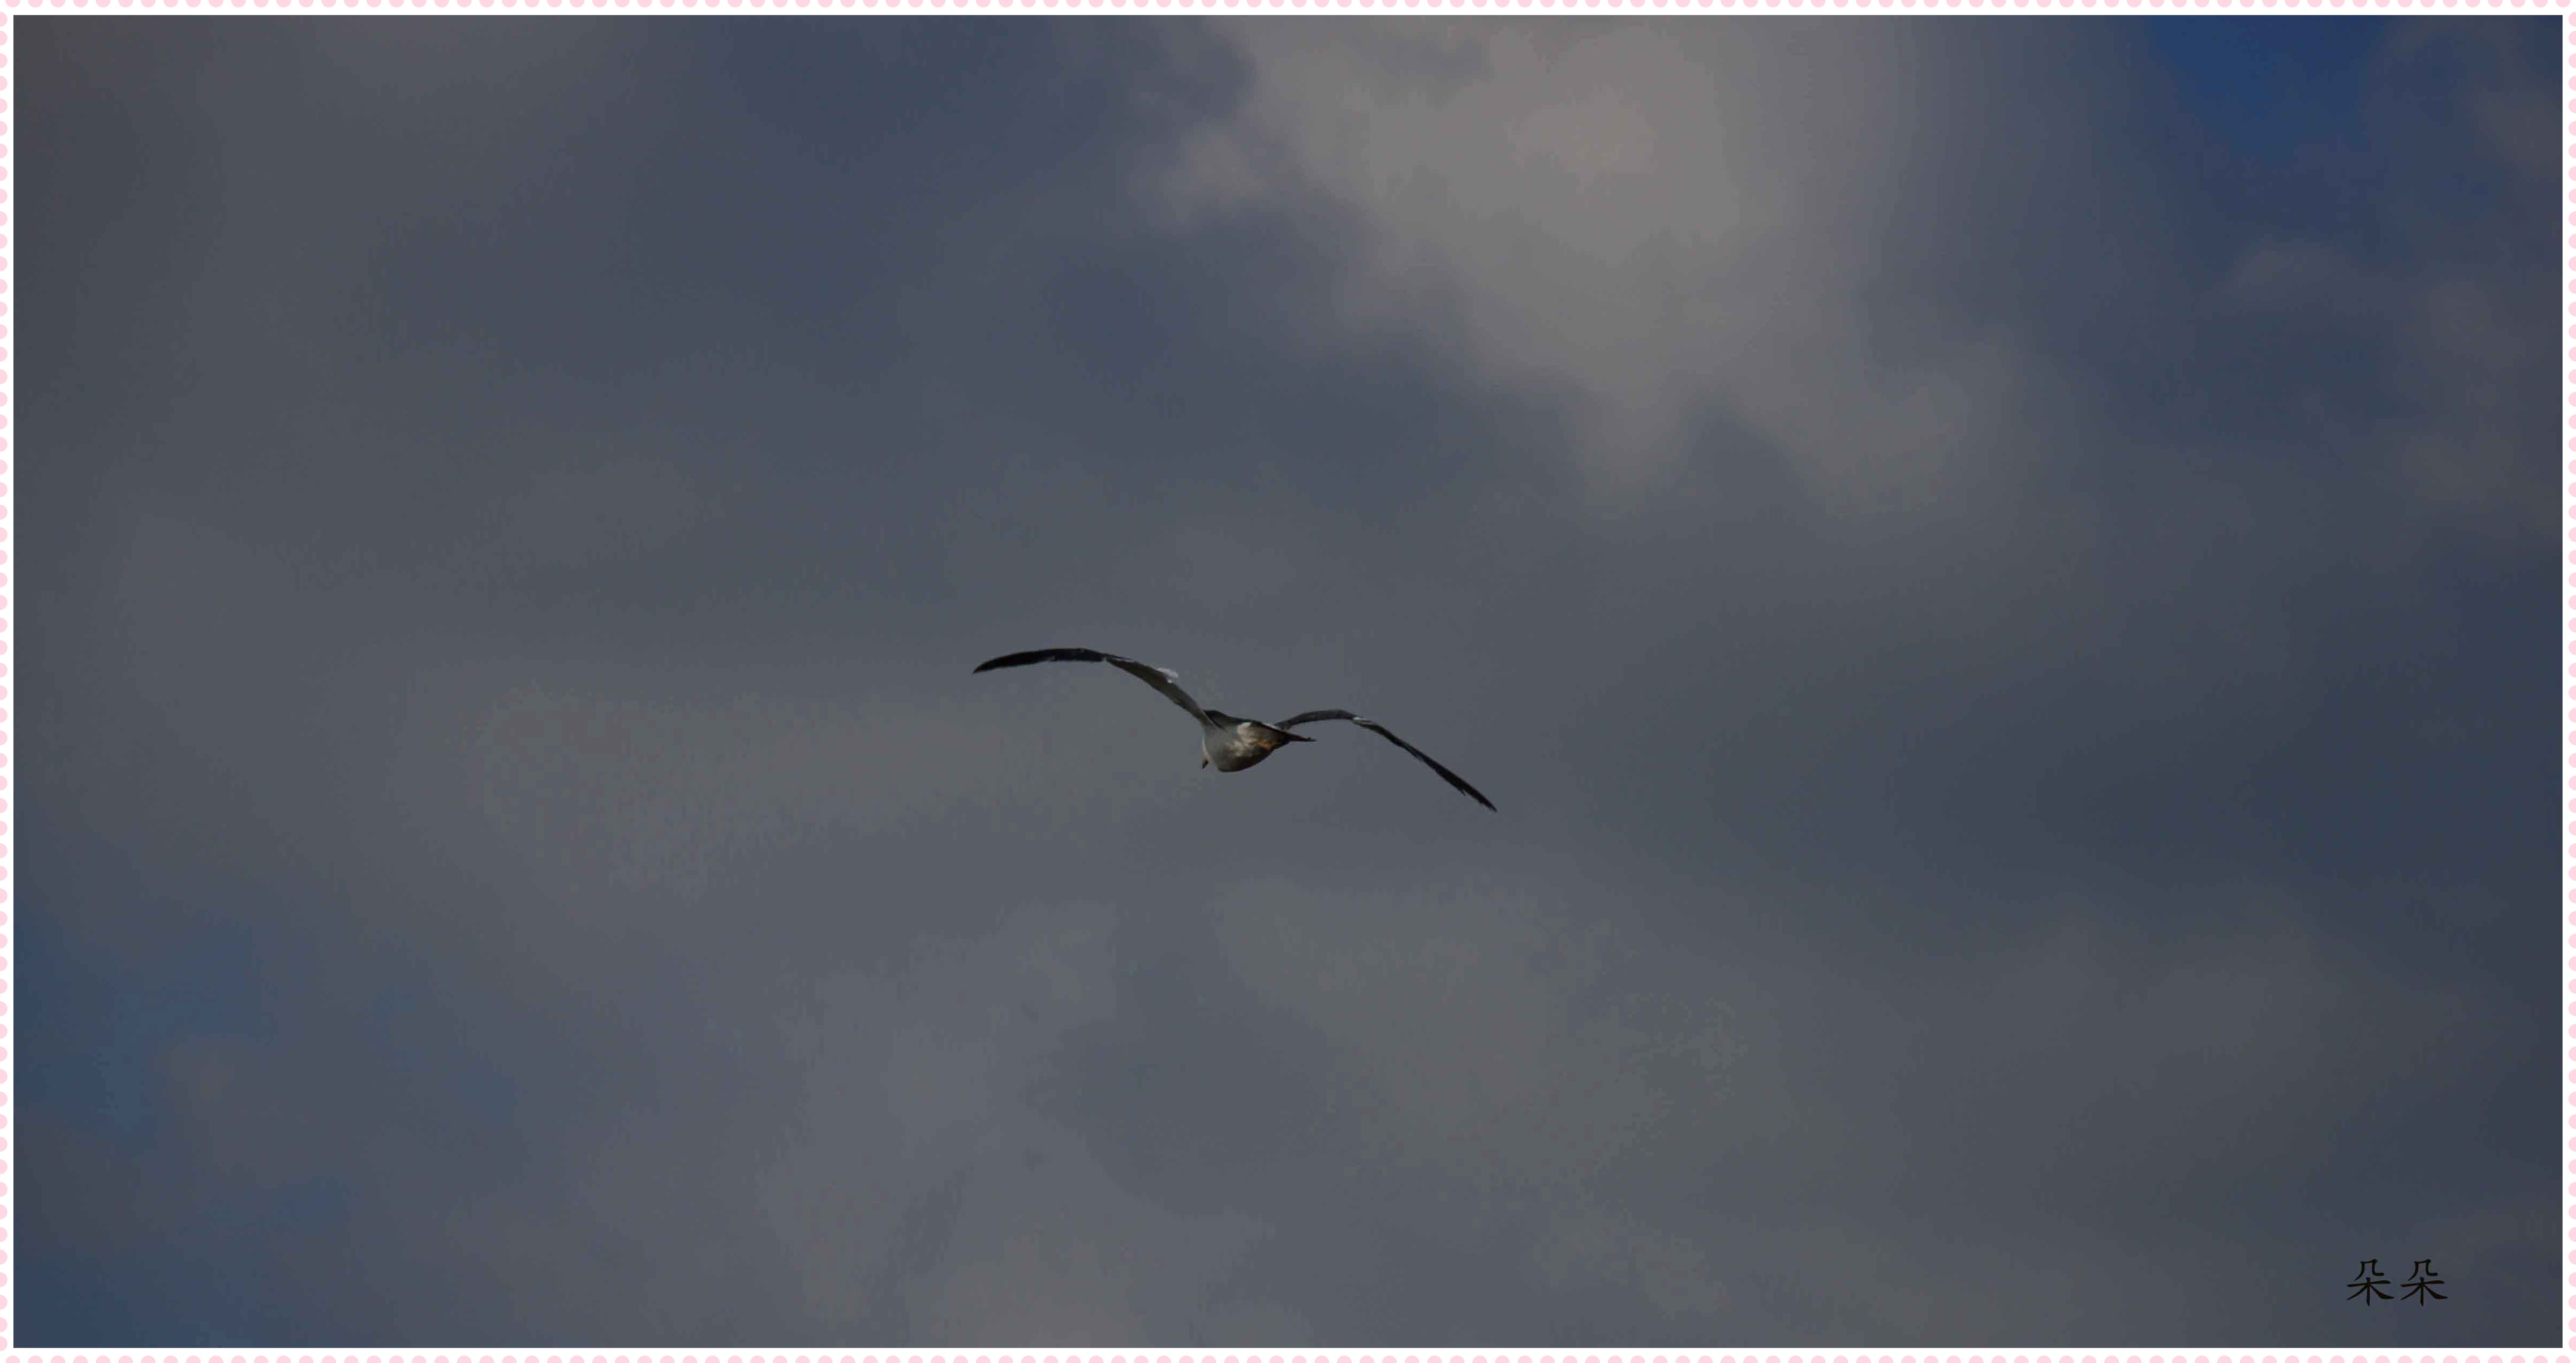bird: (981, 627, 1504, 826)
